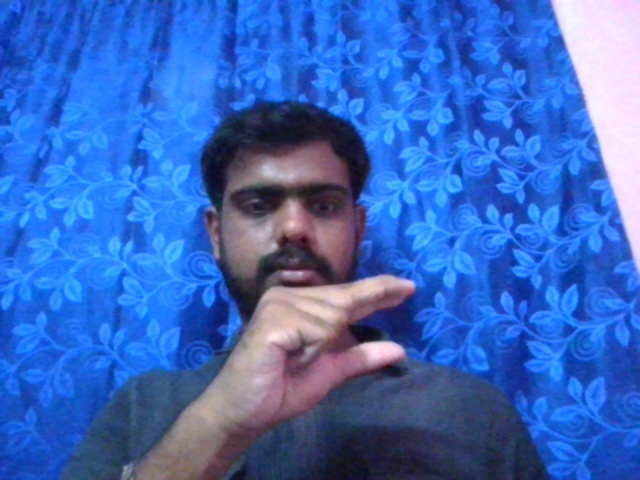No: (210, 258, 420, 404)
